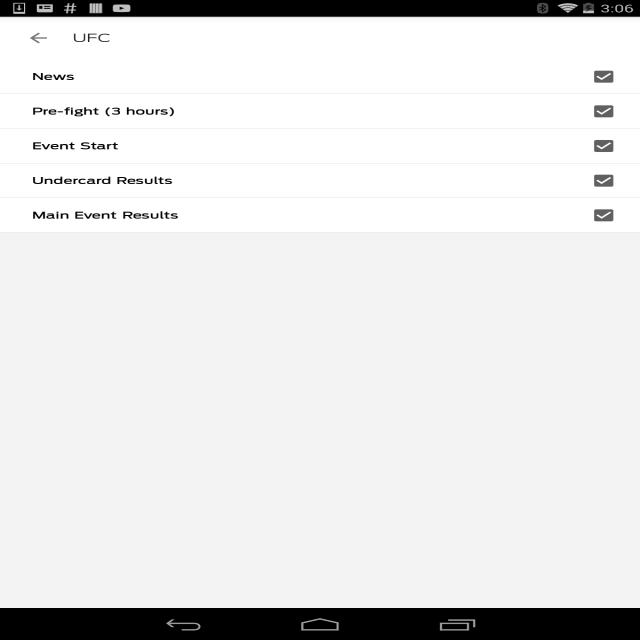CheckBox: (586, 135, 620, 157), (586, 66, 620, 87), (586, 101, 620, 122), (586, 170, 620, 191), (586, 205, 620, 226)
ImageButton: (9, 17, 68, 59)
ImageView: (573, 25, 615, 51)
TextView: (32, 210, 178, 221), (32, 106, 176, 117), (32, 175, 173, 186), (32, 140, 118, 152), (72, 31, 111, 45), (32, 71, 74, 82)
